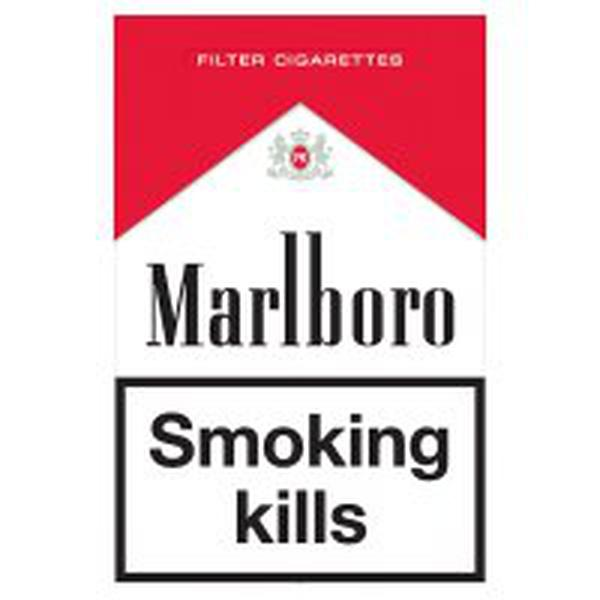marlboro_red: (113, 16, 483, 582)
